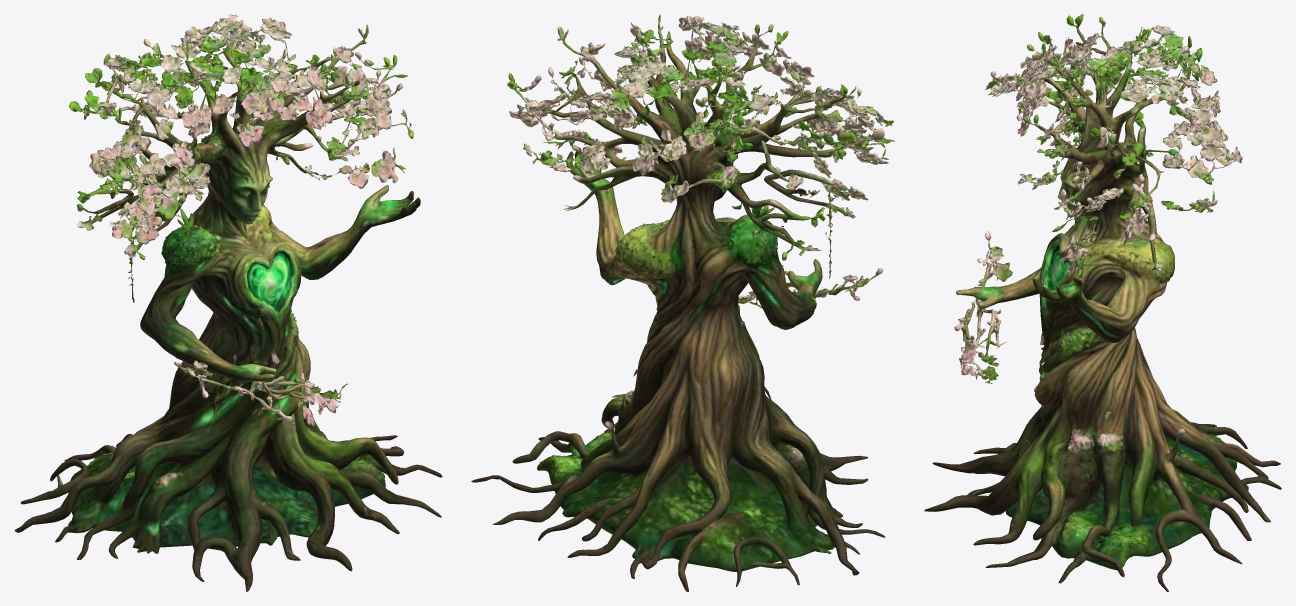
File: mini_wg18.glb
The picture shows the model from 3 angles, left to right: view 1: azimuth 30°, elevation 25°; view 2: azimuth 150°, elevation 25°; view 3: azimuth 270°, elevation 25°; orthographic projection. The views are drawn at different scales.
Bounding box in the file's own units: 1.63 × 1.89 × 1.37.
Materials: 1 (1 with a texture image).
